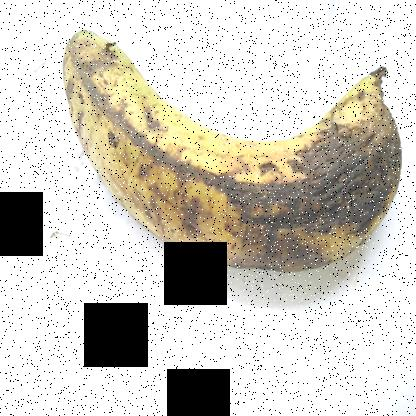rotten: (54, 7, 396, 297)
